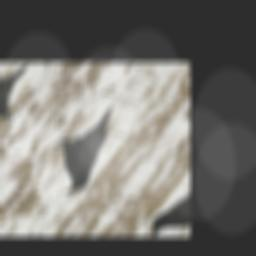Crow: (27, 97, 140, 202)
